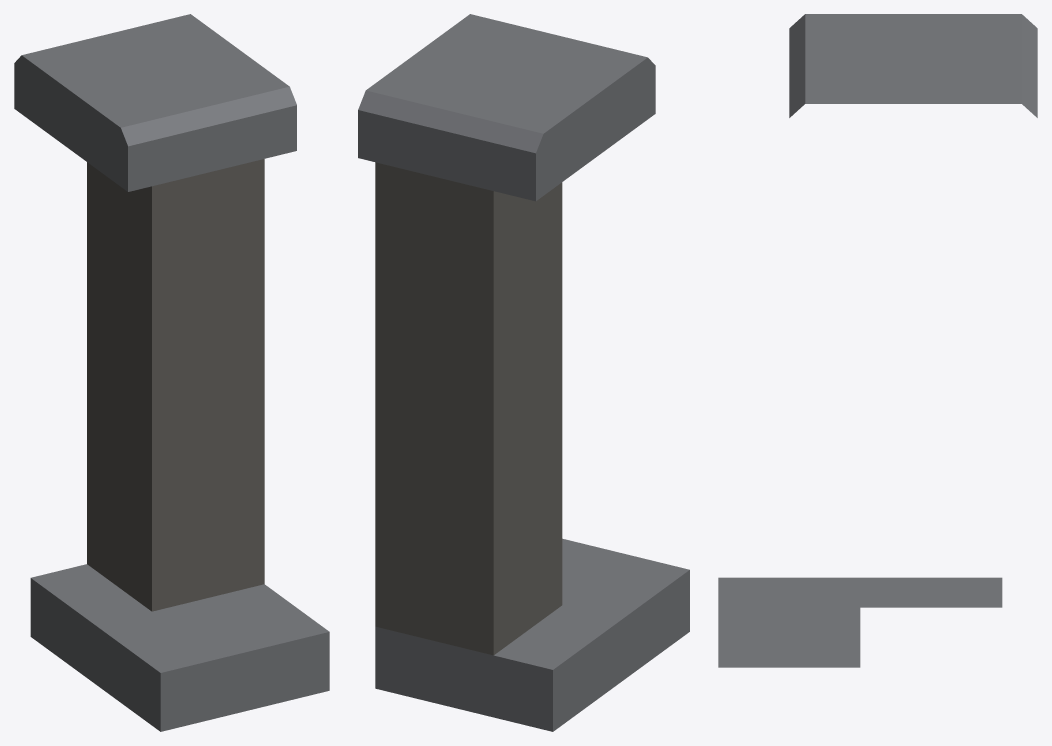
File: SM_Roof_Plug_L.gltf
The picture shows the model from 3 angles, left to right: view 1: azimuth 30°, elevation 25°; view 2: azimuth 150°, elevation 25°; view 3: azimuth 270°, elevation 25°; orthographic projection. The views are drawn at different scales.
Parts seen in each view (by area): view 1: SM_Roof_Plug_L; view 2: SM_Roof_Plug_L; view 3: SM_Roof_Plug_L.
Boxes of the visible parts, <box> form: SM_Roof_Plug_L: <box>14,14,329,731</box>; SM_Roof_Plug_L: <box>358,14,689,731</box>; SM_Roof_Plug_L: <box>718,14,1037,667</box>.
Bounding box in the file's own units: 0.3 × 0.9755 × 0.45.
Materials: 1 (1 with a texture image).
